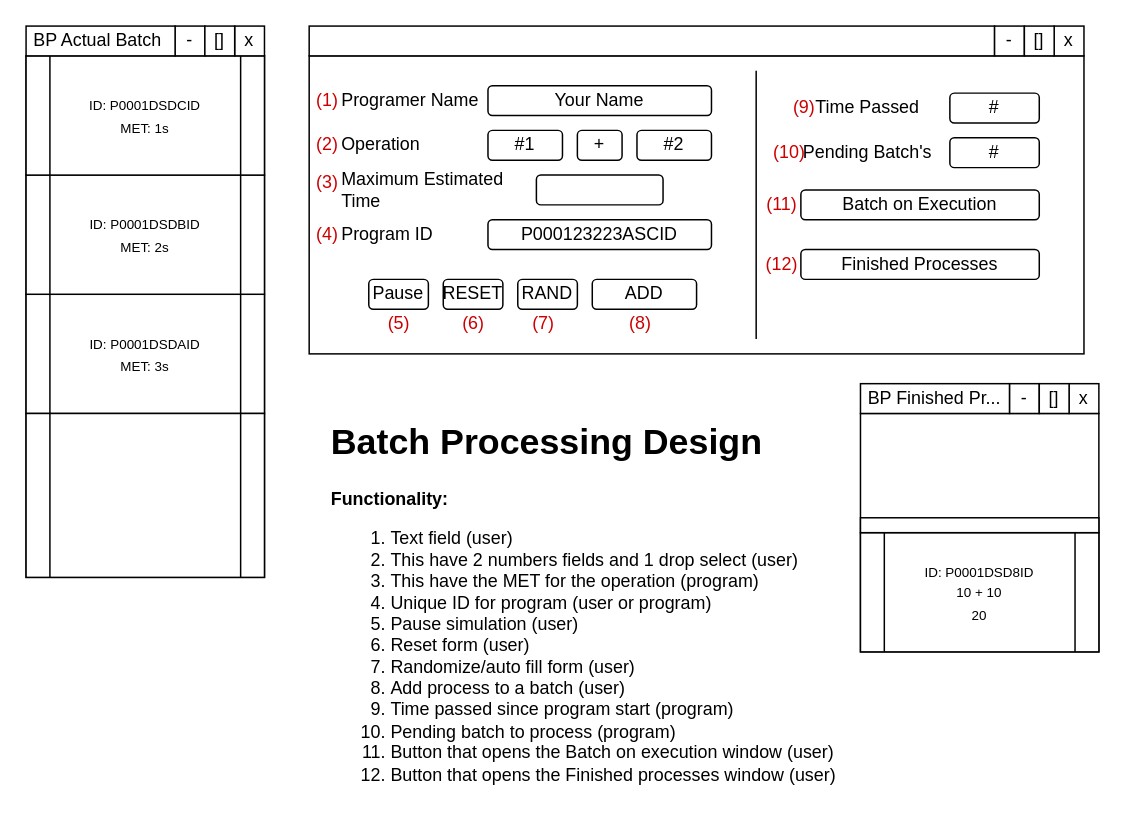
This 1125x827 diagram has some shape labels left out. The shapes that lost their labels are listed below. From the top down, each one's box as (x1, y1, x2, y2) in pixels, then its label:
(308, 25, 995, 56): BP Batch Processing
(535, 174, 663, 205): MTC sec
(25, 412, 264, 577): Name: Tony Operation: 10 Power 5 MTC: 5s ID: P0001DSD9ID TT: 0s ETC: 5s
